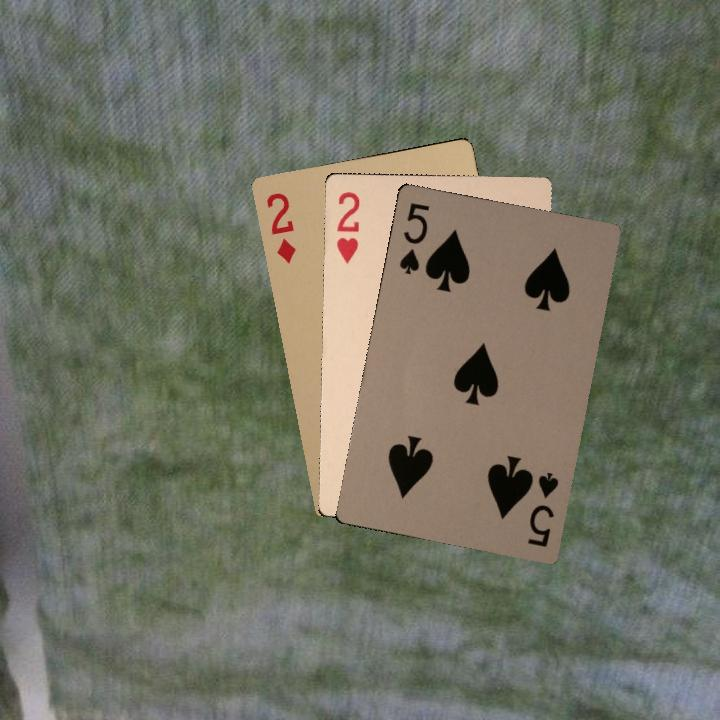2d: (262, 188, 299, 266)
2h: (333, 188, 363, 266)
5s: (523, 467, 562, 550), (395, 199, 432, 277)
